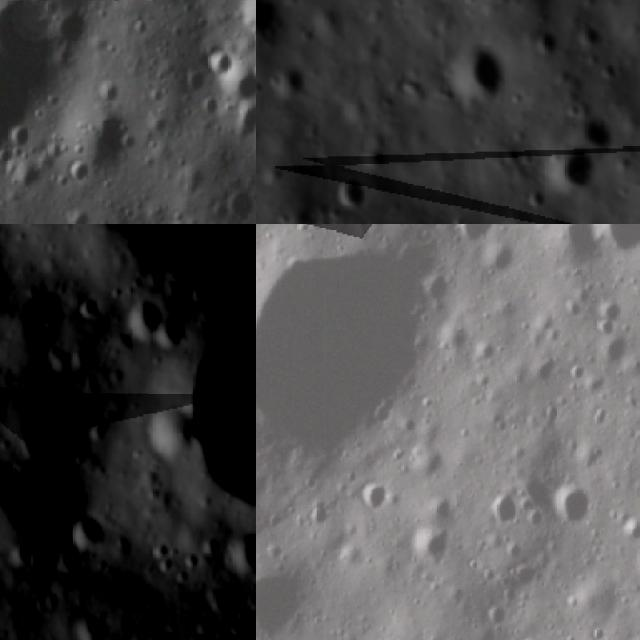crater: (256, 244, 445, 452), (187, 297, 256, 510), (4, 392, 76, 467), (447, 43, 507, 109), (256, 568, 310, 639), (0, 2, 60, 56), (548, 477, 597, 531), (270, 57, 311, 114), (409, 522, 455, 572), (198, 43, 240, 95), (586, 224, 640, 264), (321, 170, 372, 212), (554, 224, 594, 272), (556, 148, 598, 191), (72, 510, 116, 551), (485, 486, 522, 534), (220, 183, 256, 224), (224, 533, 256, 579), (130, 297, 158, 344), (360, 481, 394, 516), (458, 224, 495, 254), (75, 295, 104, 329), (164, 313, 186, 357), (3, 126, 34, 156), (62, 168, 94, 193), (426, 498, 458, 522), (618, 520, 640, 544)
